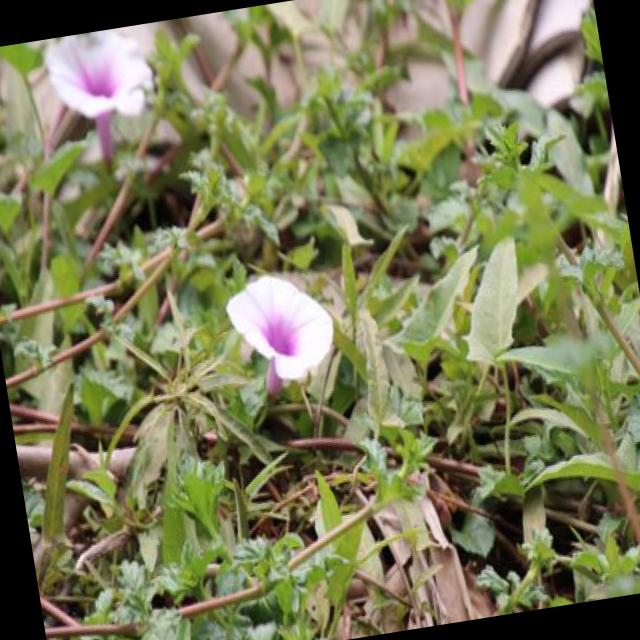ipomoea: (37, 23, 170, 175), (218, 260, 346, 404)
